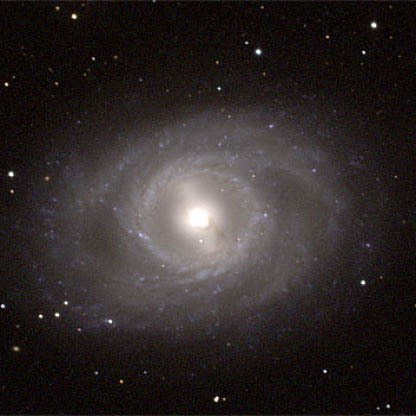Messier 95: (25, 94, 370, 346)
